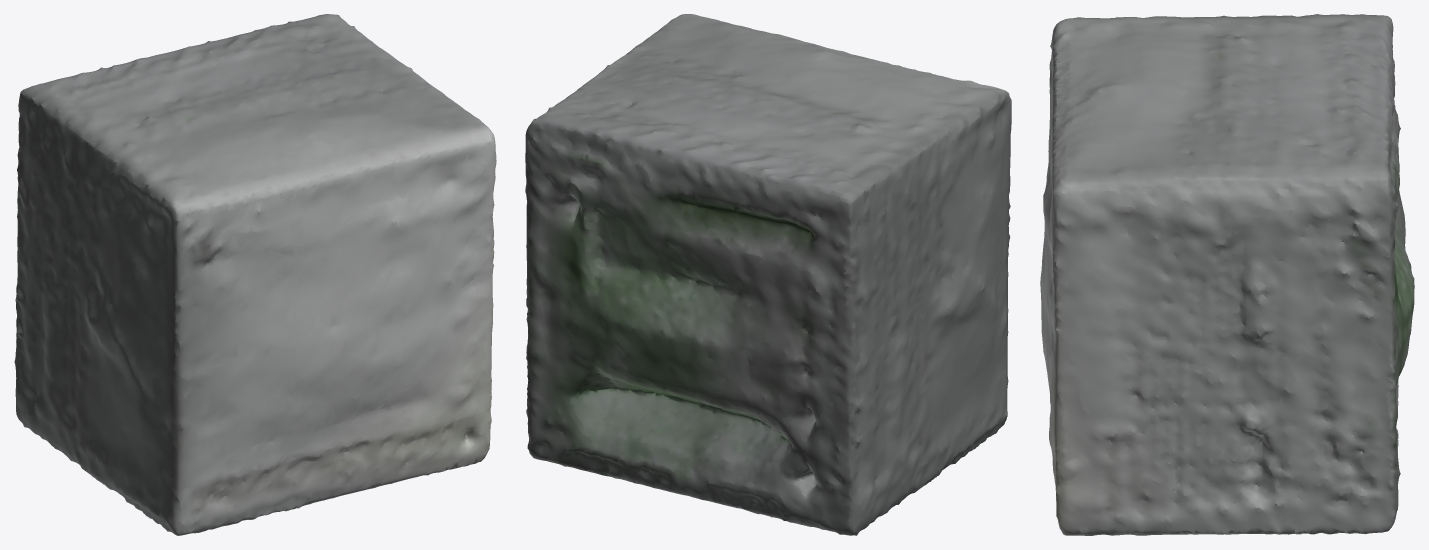
The model's file is cream.glb.
3 renders of one model, left to right at view 1: azimuth 30°, elevation 25°; view 2: azimuth 150°, elevation 25°; view 3: azimuth 270°, elevation 25°, orthographic. The views are drawn at different scales.
Bounding box in the file's own units: 0.9967 × 0.9849 × 0.8825.
